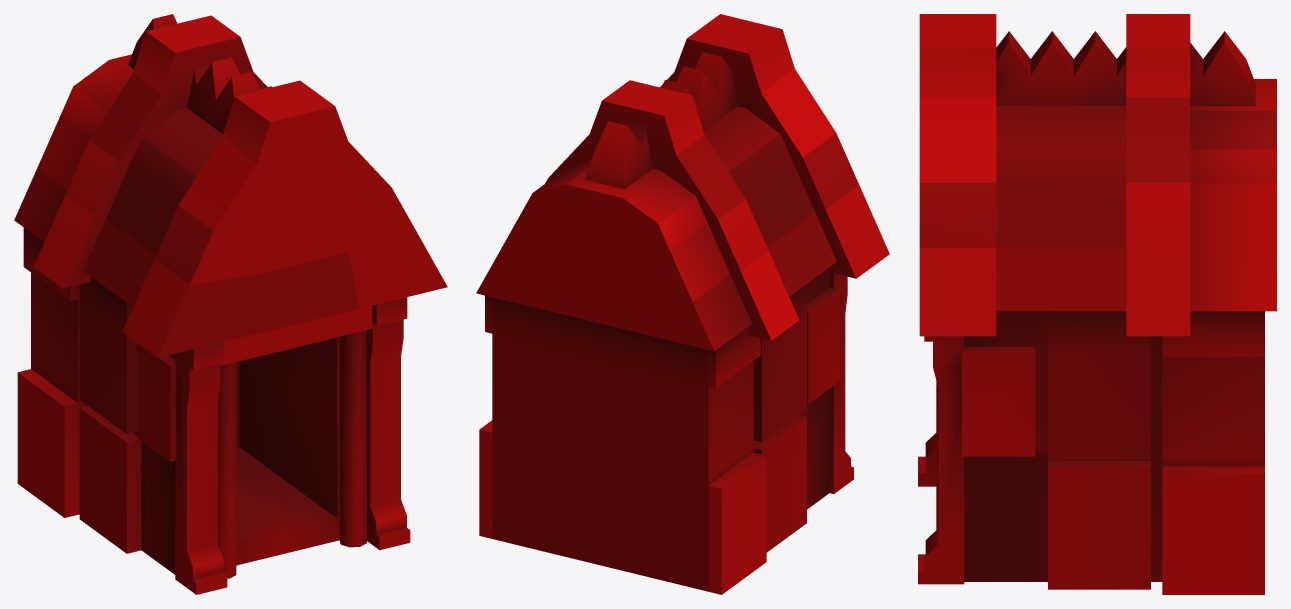
The model's file is buildings-ruins-templeruins_v6.fbx.
3 renders of one model, left to right at view 1: azimuth 30°, elevation 25°; view 2: azimuth 150°, elevation 25°; view 3: azimuth 270°, elevation 25°, orthographic. The views are drawn at different scales.
Parts seen in each view (by area): view 1: TempleRuins_v6; view 2: TempleRuins_v6; view 3: TempleRuins_v6.
Part boxes in pixels (<box>): TempleRuins_v6: <box>14,14,447,594</box>; TempleRuins_v6: <box>476,14,889,594</box>; TempleRuins_v6: <box>918,14,1276,594</box>.
Size of the model in its own units: 5.29 by 7.92 by 5.19.
